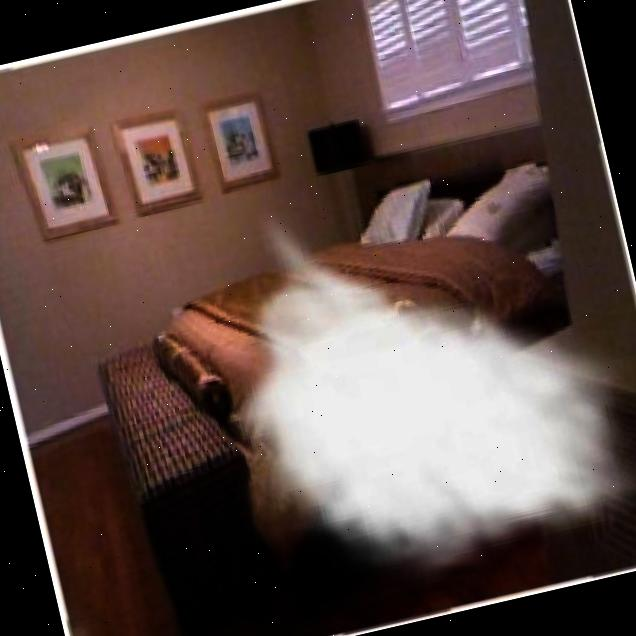smoke: (211, 183, 636, 591)
